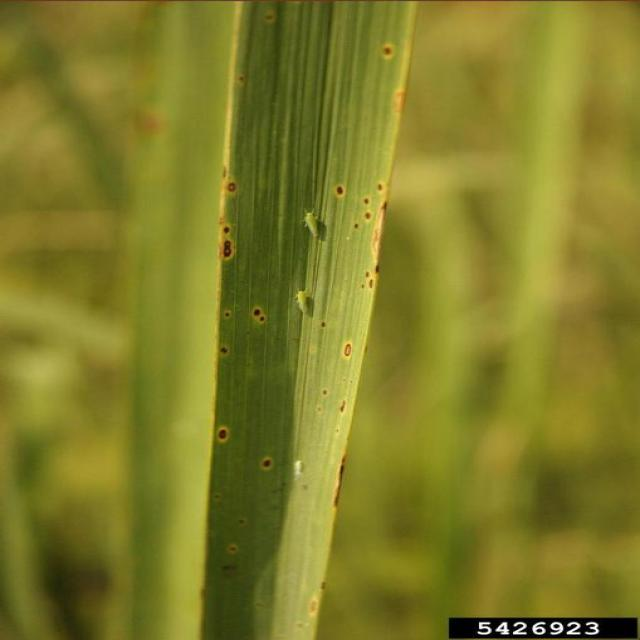Brown spot: (195, 1, 412, 640)
